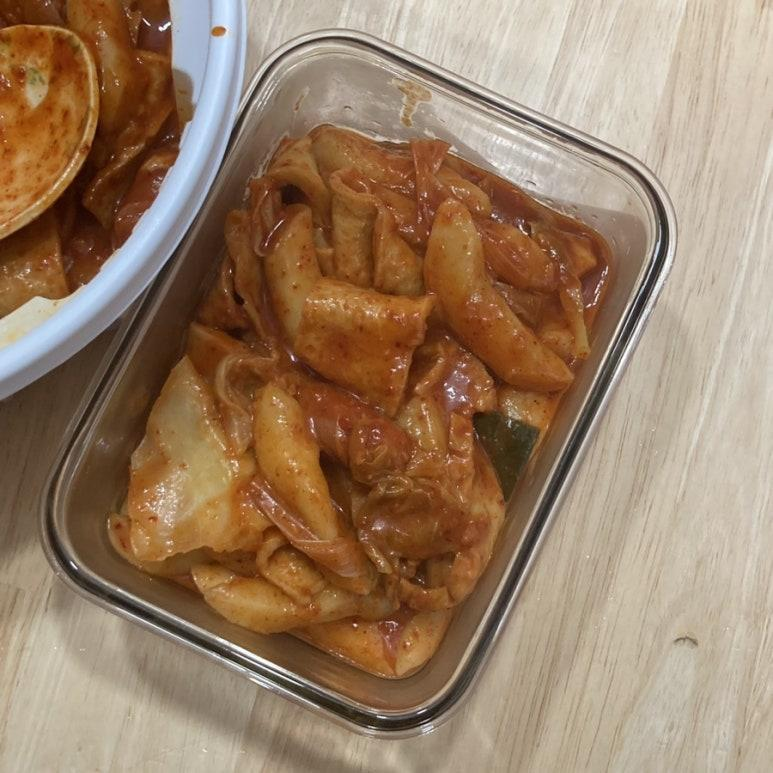Lunch Box: (44, 31, 674, 731), (0, 0, 245, 399)
